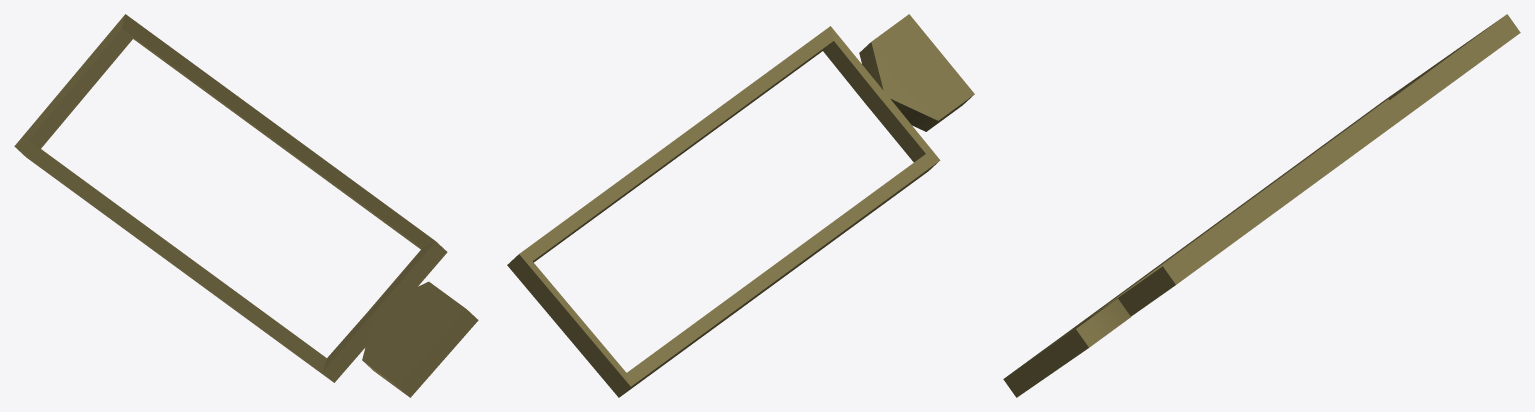
File: Lever_Special_02_Arrow.fbx
3 views of the same model, side by side, from view 1: azimuth 30°, elevation 25°; view 2: azimuth 150°, elevation 25°; view 3: azimuth 330°, elevation 25° (orthographic). The views are drawn at different scales.
Visible parts, largest first — view 1: Lever_Special_02_Arrow; view 2: Lever_Special_02_Arrow; view 3: Lever_Special_02_Arrow.
Boxes of the visible parts, x1=… form: Lever_Special_02_Arrow: x1=14, y1=14, x2=478, y2=397; Lever_Special_02_Arrow: x1=507, y1=14, x2=974, y2=397; Lever_Special_02_Arrow: x1=1003, y1=14, x2=1520, y2=397.
Size of the model in its own units: 1.53 by 1.41 by 7.83.
